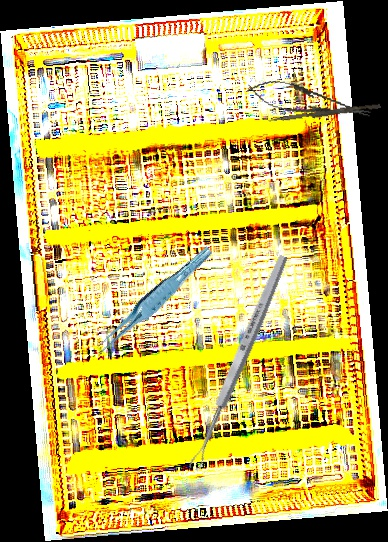Needle Holder: (244, 74, 375, 129)
Pusher: (268, 101, 381, 126)
Surgical Spoon: (186, 253, 291, 472)
Tissue Forceps: (85, 245, 220, 357)
